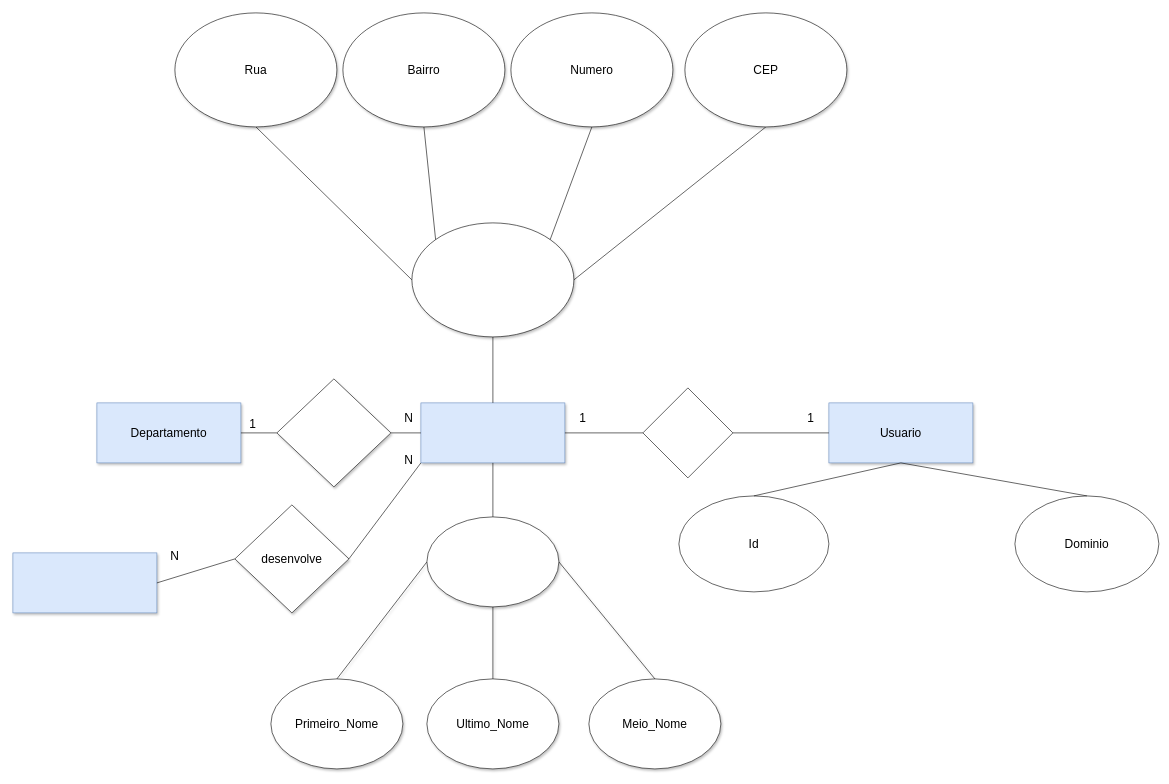
Image size: 1169x784. Some labels were removed from this diagram. The shapes that lost their labels are listed below. From the top down, each one's centre as x and y in pixels, then its label:
At pixel 493 280: "Endereco".
At pixel 334 433: "trabalha_para".
At pixel 493 433: "Funcionario".
At pixel 687 432: "possui".
At pixel 493 562: "Nome".
At pixel 85 583: "Projeto".
